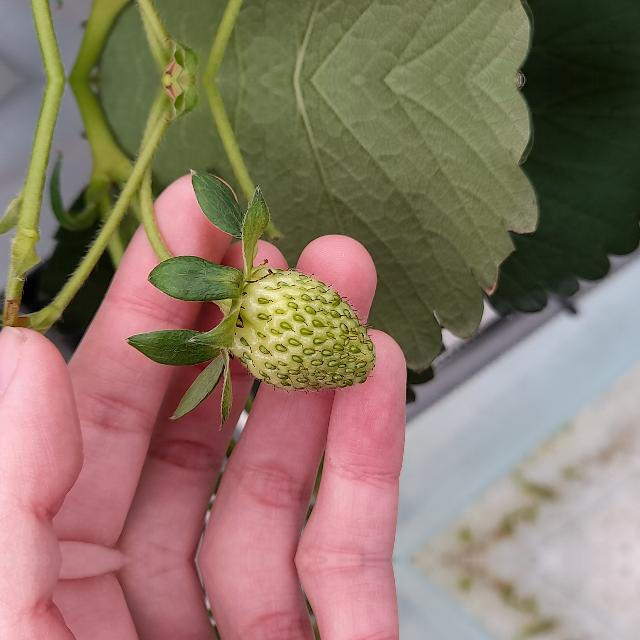Health_25: (230, 266, 376, 390)
